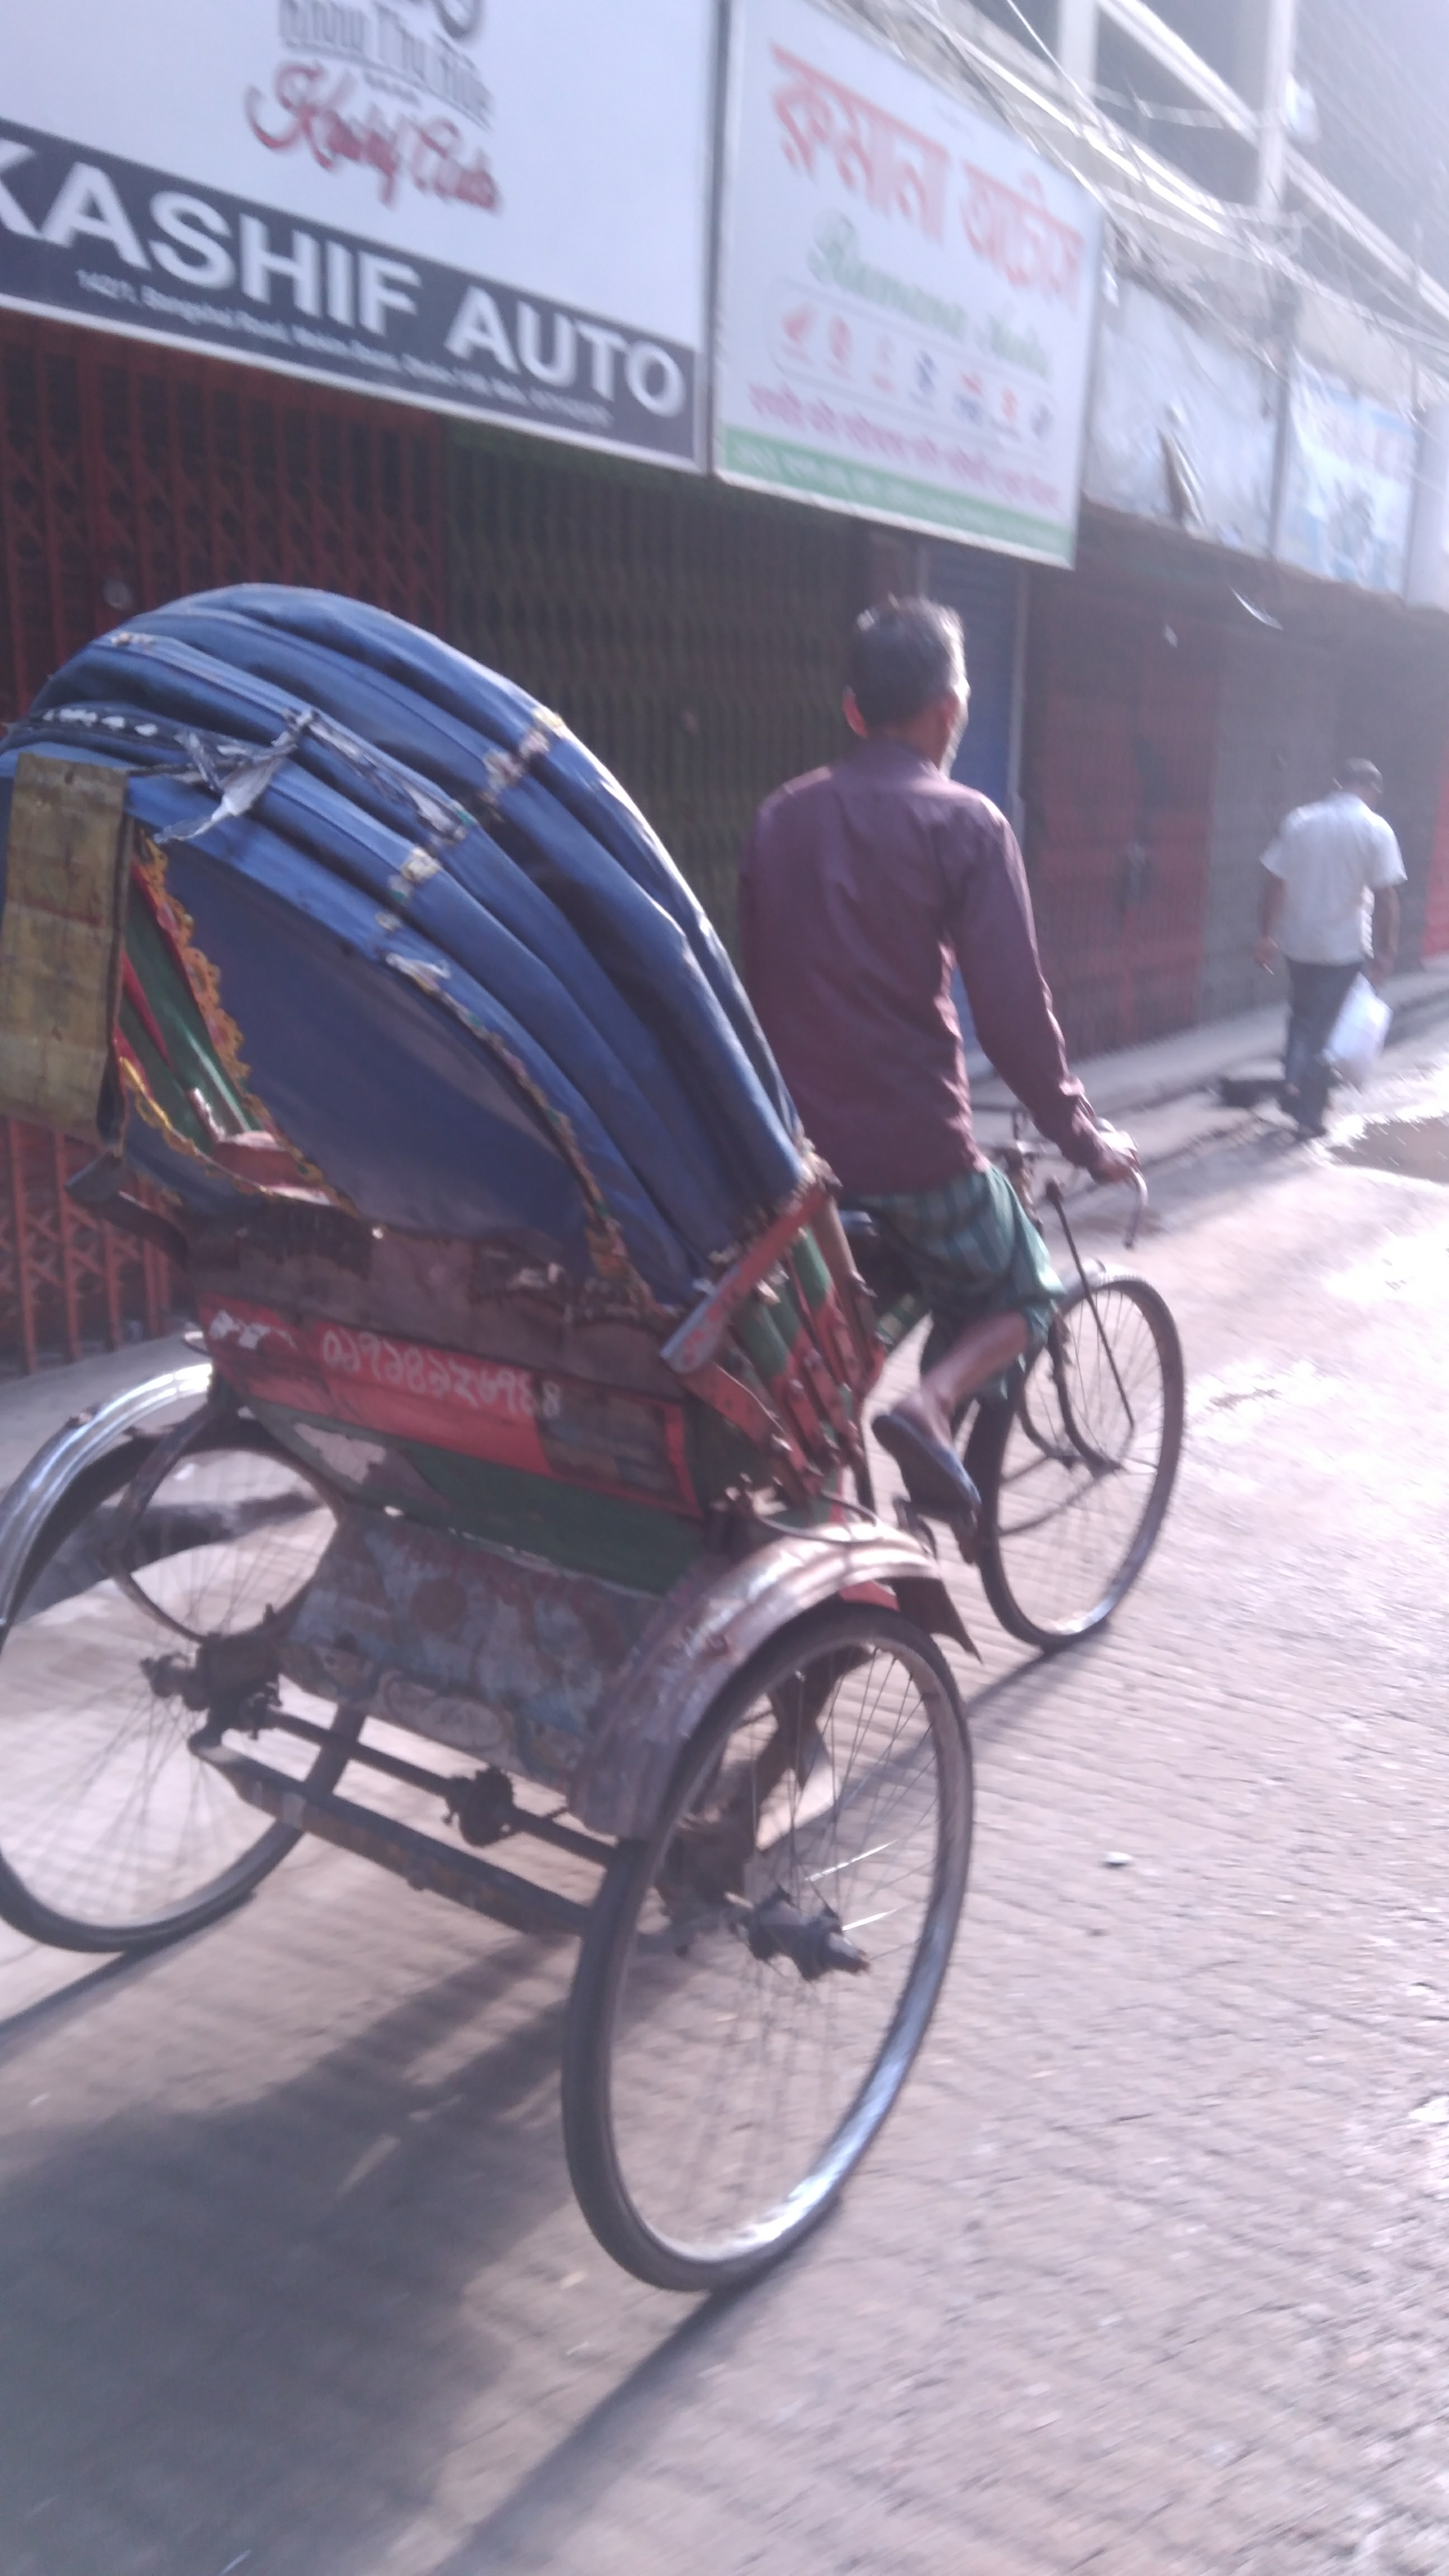Rickshaw: (46, 570, 1223, 2273)
